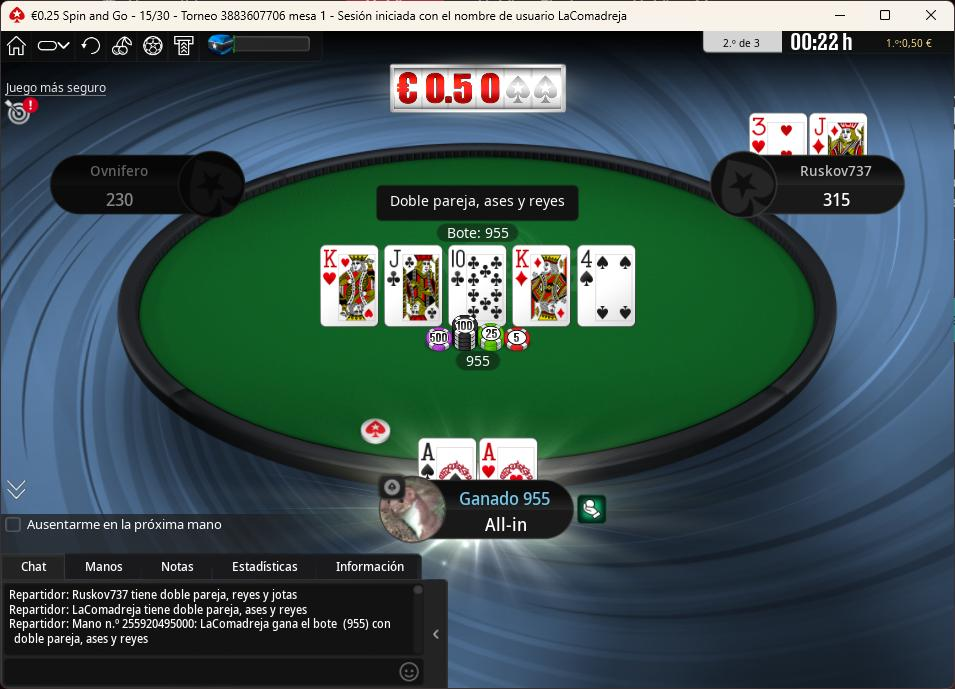Dealer: (360, 417, 392, 445)
Player: (717, 152, 913, 216), (50, 151, 247, 214)
PlayerChips: (819, 185, 856, 211), (106, 187, 137, 209)
Pot: (435, 222, 520, 243)
PrincipalCards: (416, 435, 538, 484)
PrincipalCards1: (417, 438, 477, 482)
PrincipalCards2: (478, 438, 539, 483)
PrincipalPlayer: (371, 471, 569, 538)
ShowedCards: (319, 244, 638, 329)
ShowedCards1: (318, 245, 385, 331)
ShowedCards2: (384, 246, 447, 330)
ShowedCards3: (446, 244, 509, 327)
ShowedCards4: (510, 246, 572, 329)
ShowedCards5: (577, 245, 636, 328)
SmallBigBlind: (127, 2, 180, 29)
TablePot: (418, 317, 533, 377)
